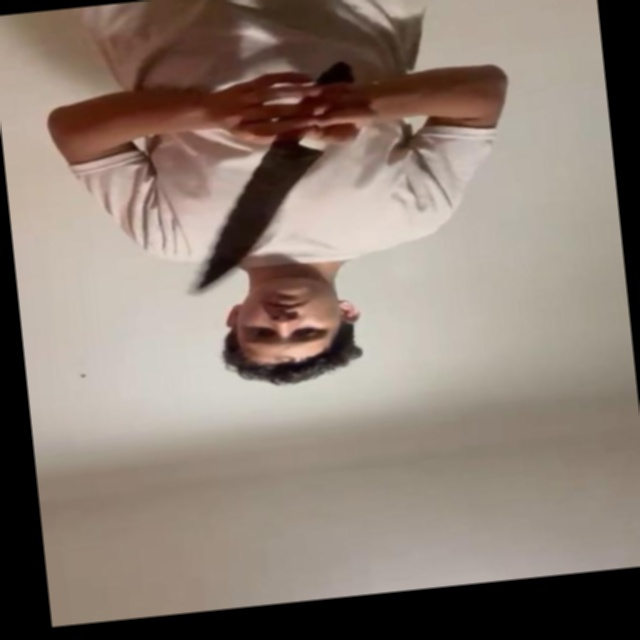Sharp-Object: (182, 142, 340, 290)
